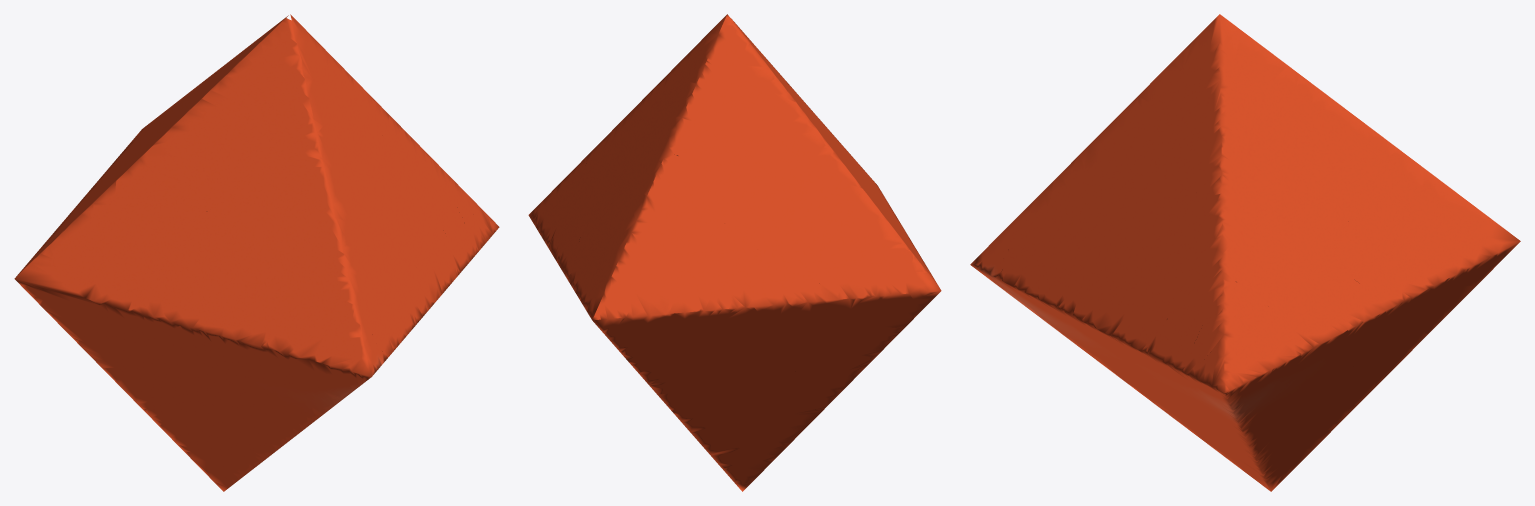
File: knightlab.gltf
3 views of the same model, side by side, from view 1: azimuth 30°, elevation 25°; view 2: azimuth 150°, elevation 25°; view 3: azimuth 270°, elevation 25° (orthographic). The views are drawn at different scales.
Parts seen in each view (by area): view 1: Octahedron_1; view 2: Octahedron_1; view 3: Octahedron_1.
Boxes of the visible parts, x1,y1,x2,y2 form: Octahedron_1: (14, 14, 499, 491); Octahedron_1: (528, 14, 941, 491); Octahedron_1: (970, 14, 1520, 491).
Size of the model in its own units: 4.77 by 4.77 by 4.78.
Materials: 1 (1 with a texture image).
